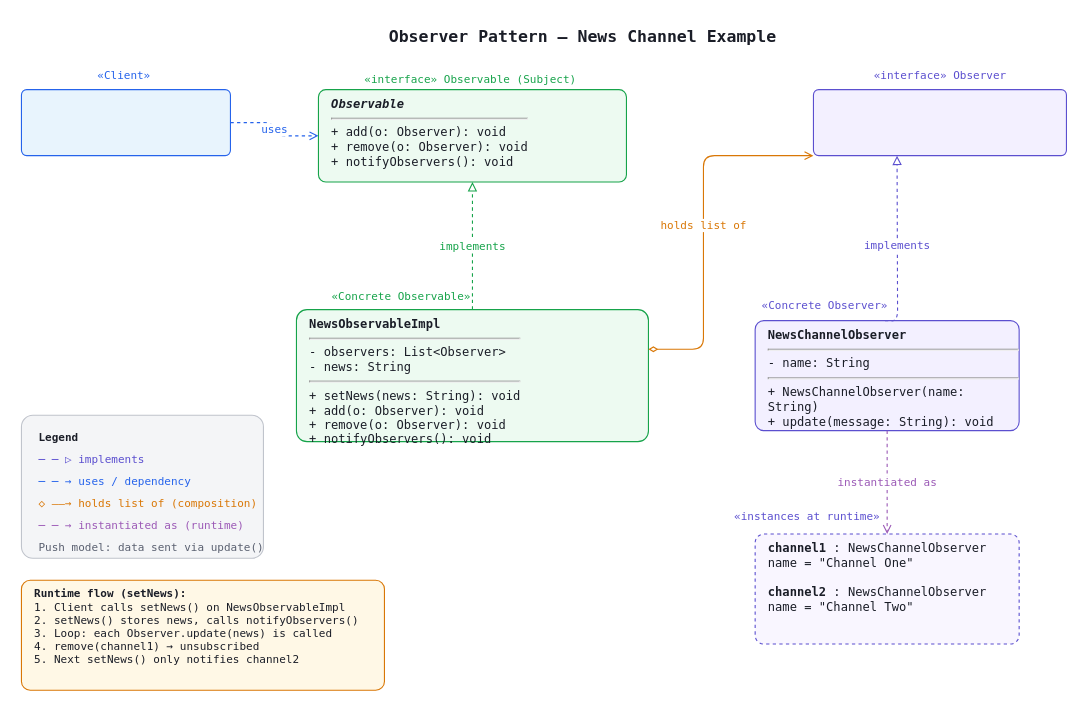
This 1086x710 diagram has some shape labels left out. Here are the shapes that lost their labels. From the top down, the centre of each, then its label:
At point 125,122: "ObserverPatternDemo + main(args: String[]): void".
At point 939,122: "Observer + update(message: String): void".
